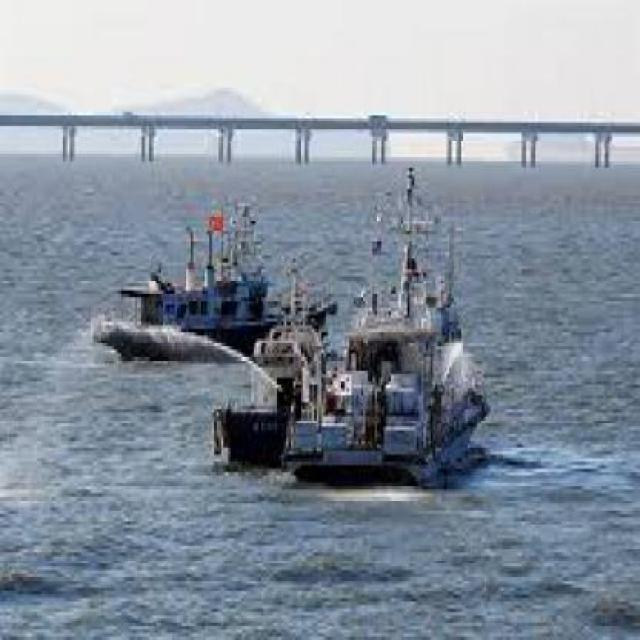fish-b: (68, 182, 357, 358), (187, 357, 501, 494)
